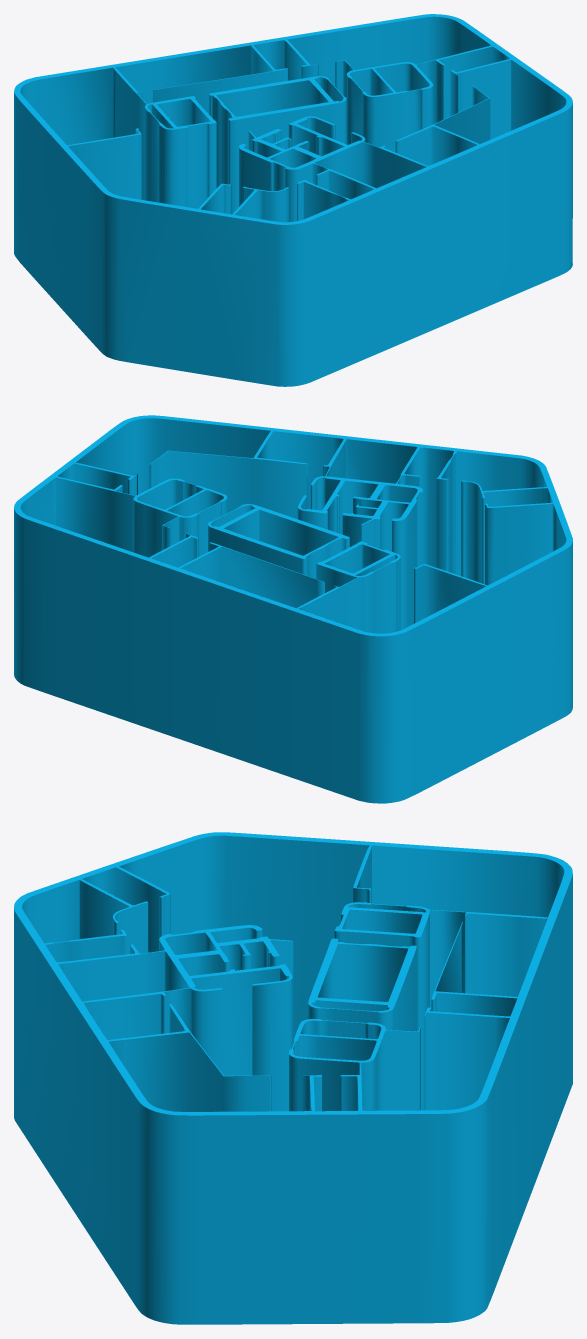
The picture shows the model from 3 angles, top to bottom: view 1: azimuth 30°, elevation 25°; view 2: azimuth 150°, elevation 25°; view 3: azimuth 270°, elevation 25°; orthographic projection. The views are drawn at different scales.
Parts seen in each view (by area): view 1: path22.002; view 2: path22.002; view 3: path22.002.
Part boxes in pixels (bbox=[...]): path22.002: bbox=[14, 14, 572, 386]; path22.002: bbox=[14, 415, 572, 803]; path22.002: bbox=[14, 832, 572, 1324].
Size of the model in its own units: 29.04 by 10 by 24.21.
